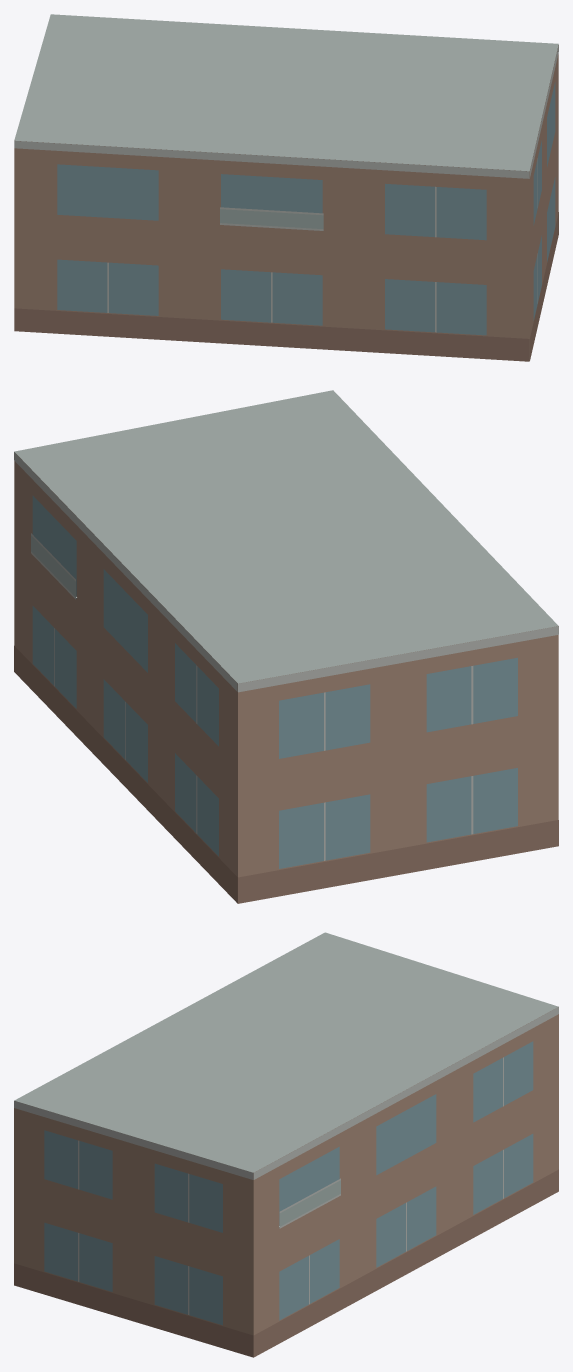
File: survey-upis-32842137.glb
3 renders of one model, top to bottom at view 1: azimuth 30°, elevation 25°; view 2: azimuth 150°, elevation 25°; view 3: azimuth 270°, elevation 25°, orthographic. The views are drawn at different scales.
Parts seen in each view (by area): view 1: survey-upis-32842137.tmp; view 2: survey-upis-32842137.tmp; view 3: survey-upis-32842137.tmp.
Boxes of the visible parts, x1=… form: survey-upis-32842137.tmp: x1=14, y1=14, x2=558, y2=361; survey-upis-32842137.tmp: x1=14, y1=390, x2=558, y2=903; survey-upis-32842137.tmp: x1=14, y1=932, x2=558, y2=1357.
Size of the model in its own units: 17.04 by 6.1 by 16.31.
